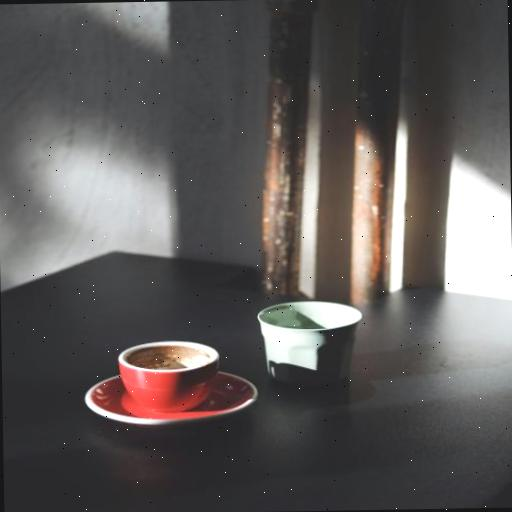cup: (118, 340, 221, 414)
